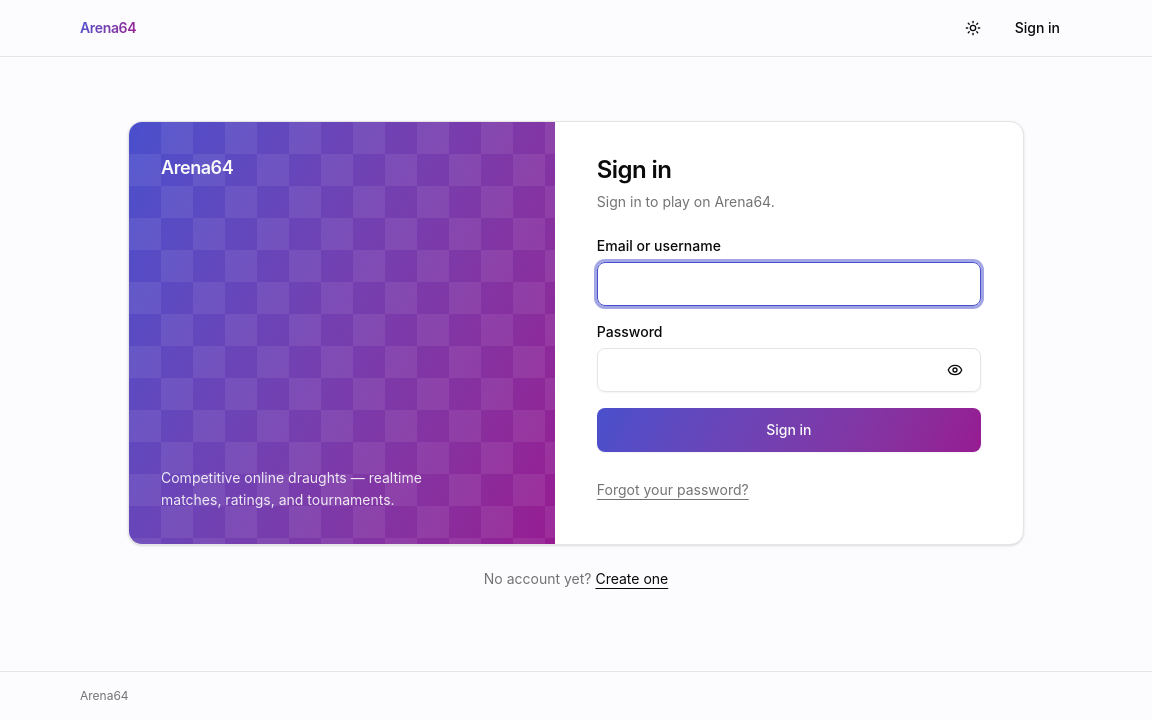
Test: a rejected sign-in — A64-031.E3 › names a rate limit as a rate limit
Type "player@example.com" into the field labelled "Email or username" at (789, 284), box [597,262,981,306]
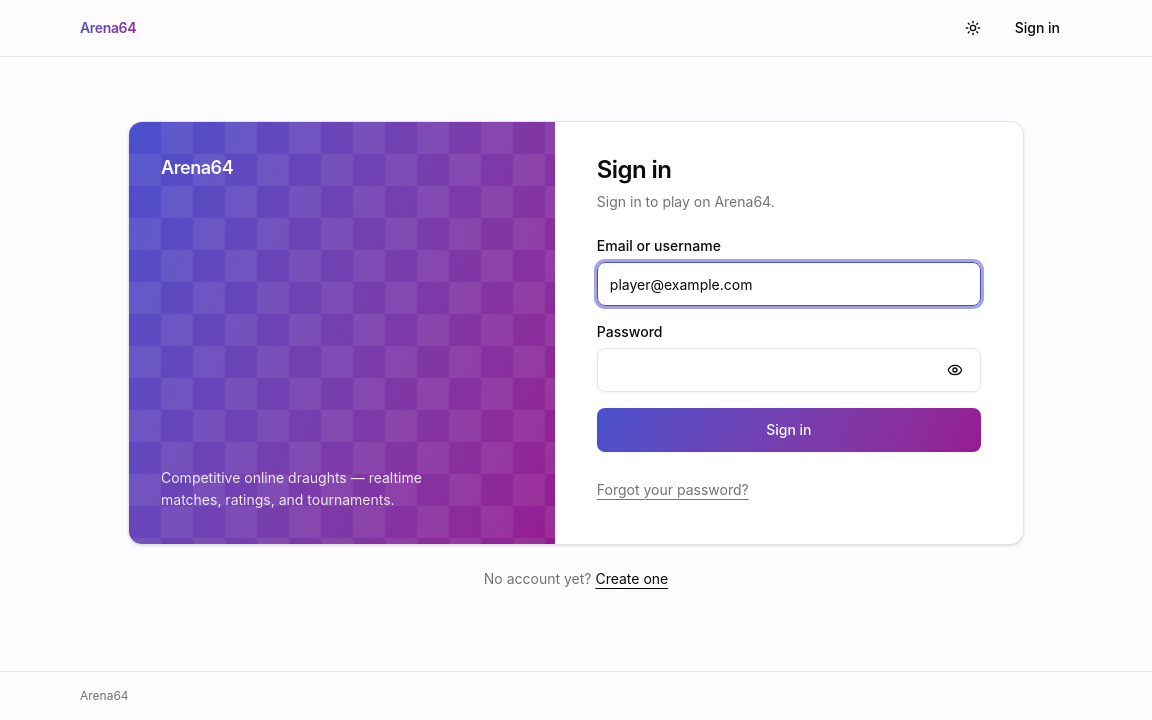
Type "x" into the password field labelled "Password" at (789, 370), box [597,348,981,392]
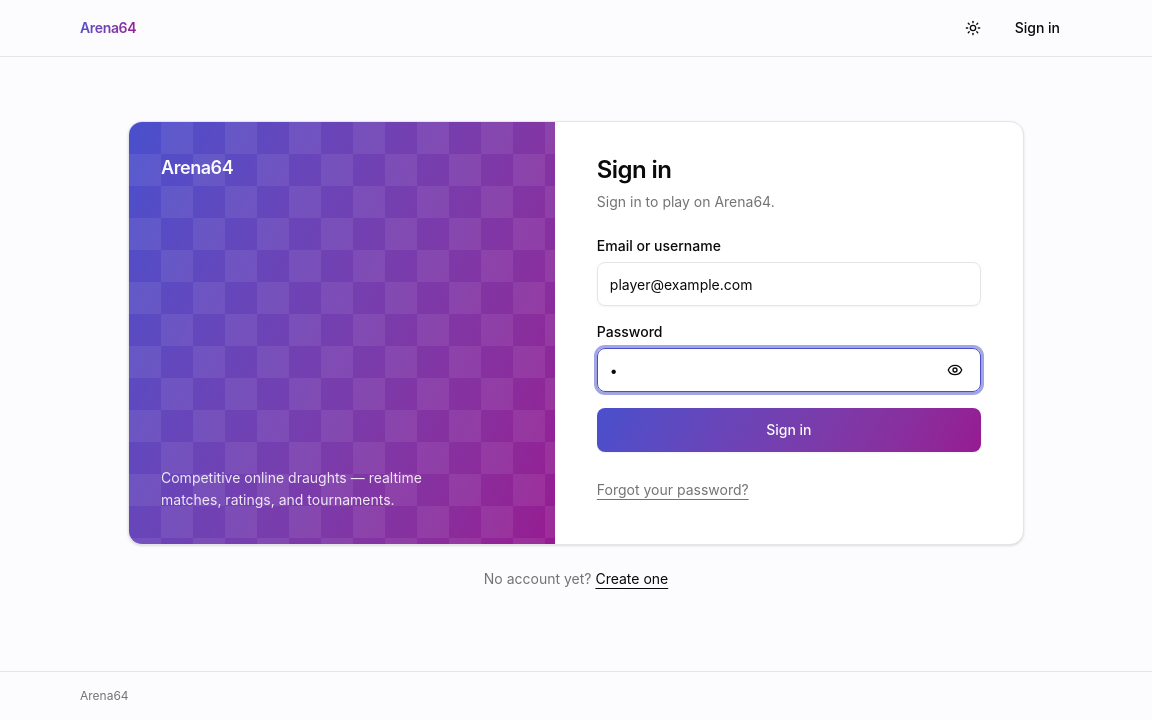
Click the button "Sign in" at (789, 430), box [597,408,981,452]
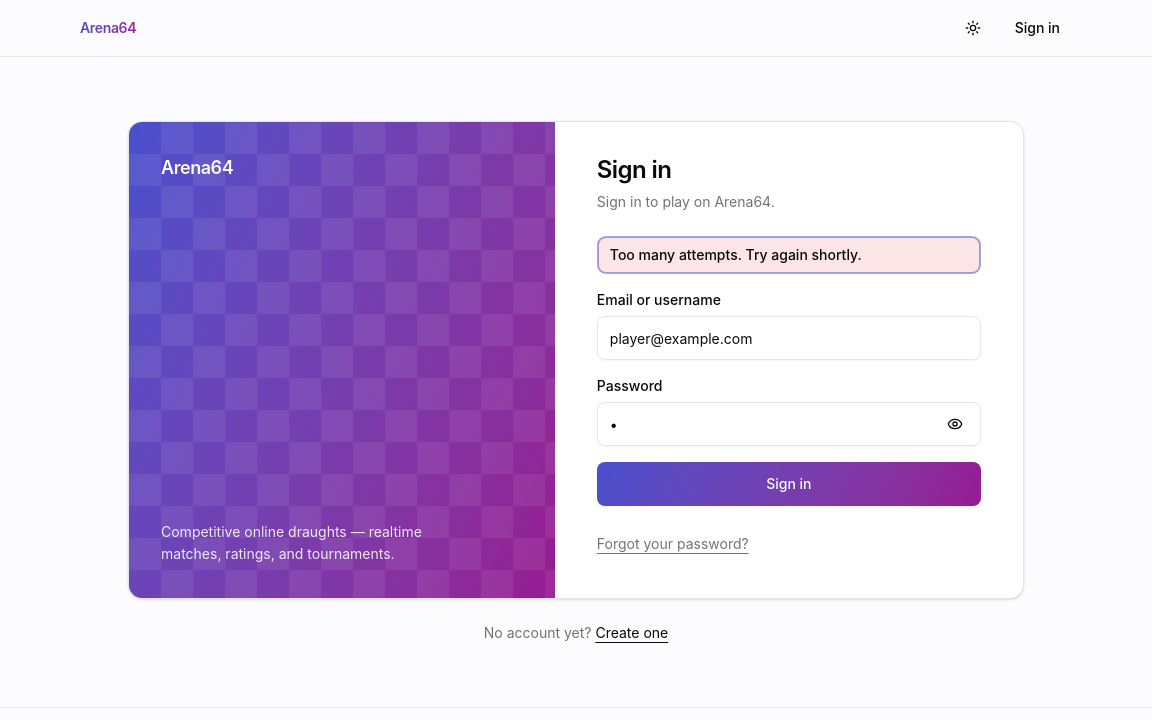
Now the message reads "Too many attempts. Try again shortly.", box [610,246,862,263]
